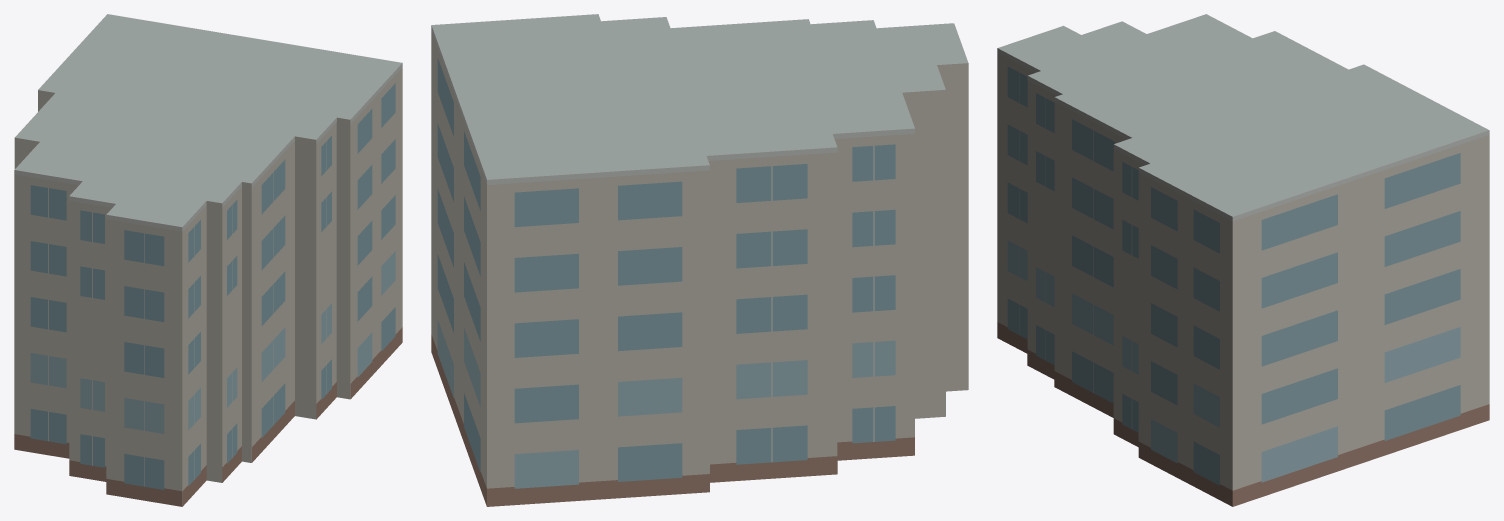
File: survey-upis-32655756.glb
3 views of the same model, side by side, from view 1: azimuth 30°, elevation 25°; view 2: azimuth 150°, elevation 25°; view 3: azimuth 270°, elevation 25° (orthographic). The views are drawn at different scales.
Visible parts, largest first — view 1: survey-upis-32655756.tmp; view 2: survey-upis-32655756.tmp; view 3: survey-upis-32655756.tmp.
Part boxes in pixels (left/top/right/bottom): survey-upis-32655756.tmp: left=14, top=14, right=402, bottom=506; survey-upis-32655756.tmp: left=431, top=14, right=968, bottom=506; survey-upis-32655756.tmp: left=997, top=14, right=1489, bottom=506.
Bounding box in the file's own units: 23.34 × 15.55 × 23.92.
